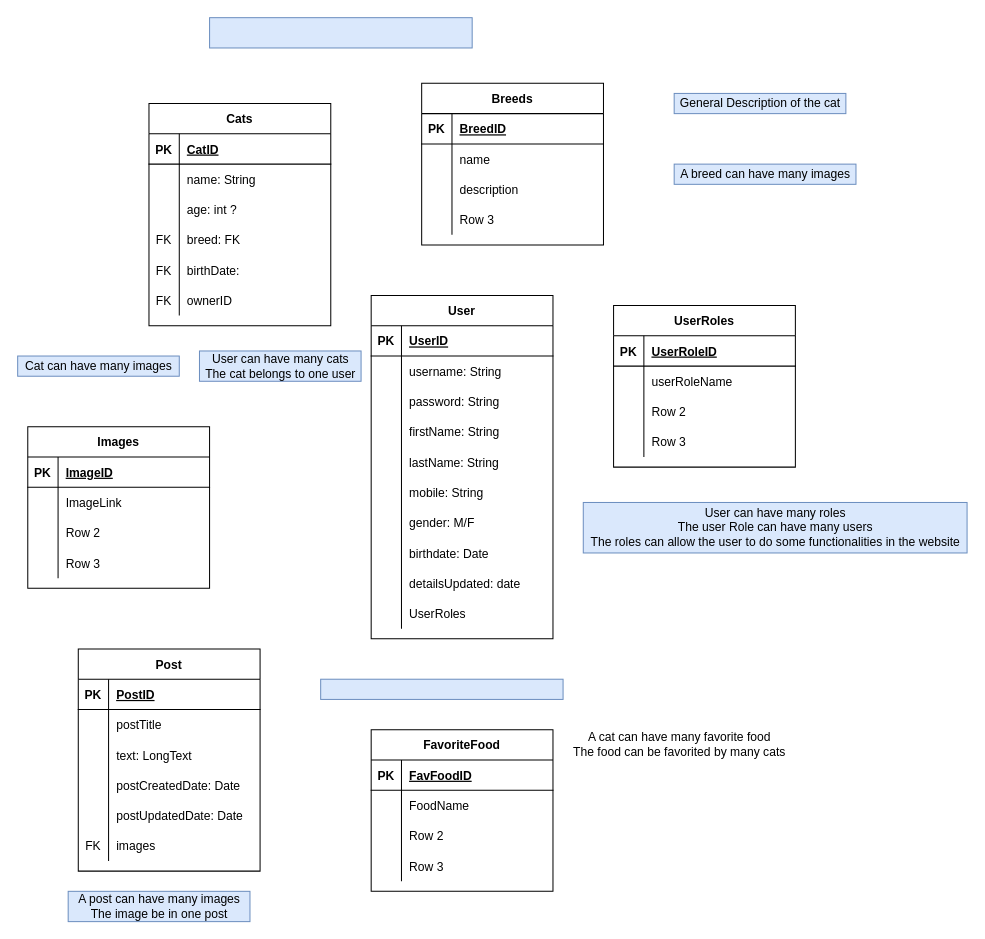
Some shapes in this 985 by 939 pixel diagram are drawn without their labels. Here are the shapes that lost their labels. From the top down, the centre of each, then its label:
(x=340, y=32): a Cat can have many species (Mixed Specie) Species can have many cats
(x=441, y=688): The user can create many posts of the cat
